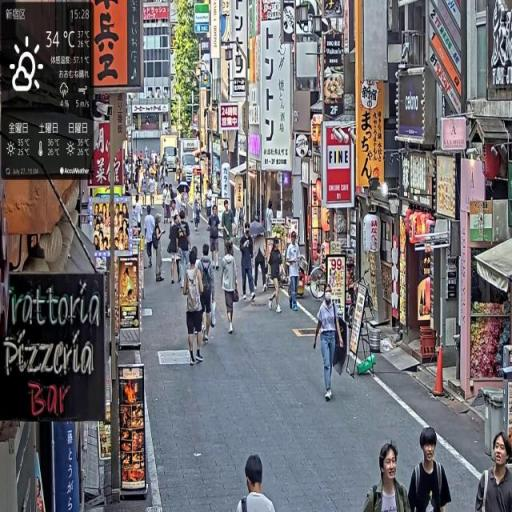person: (313, 287, 347, 404), (408, 425, 453, 512), (362, 441, 412, 512), (475, 430, 512, 511), (184, 245, 208, 367), (241, 454, 278, 512), (221, 239, 241, 337), (199, 243, 216, 344), (239, 222, 257, 305), (286, 232, 304, 315), (267, 237, 286, 315), (168, 213, 183, 287), (208, 204, 222, 271), (152, 219, 166, 284), (144, 206, 157, 274), (194, 193, 203, 231)
